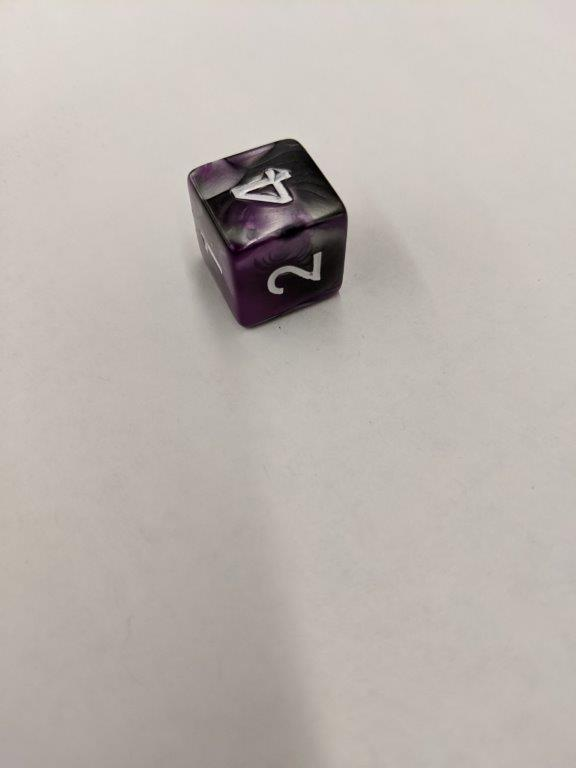d6-4: (188, 138, 347, 327)
